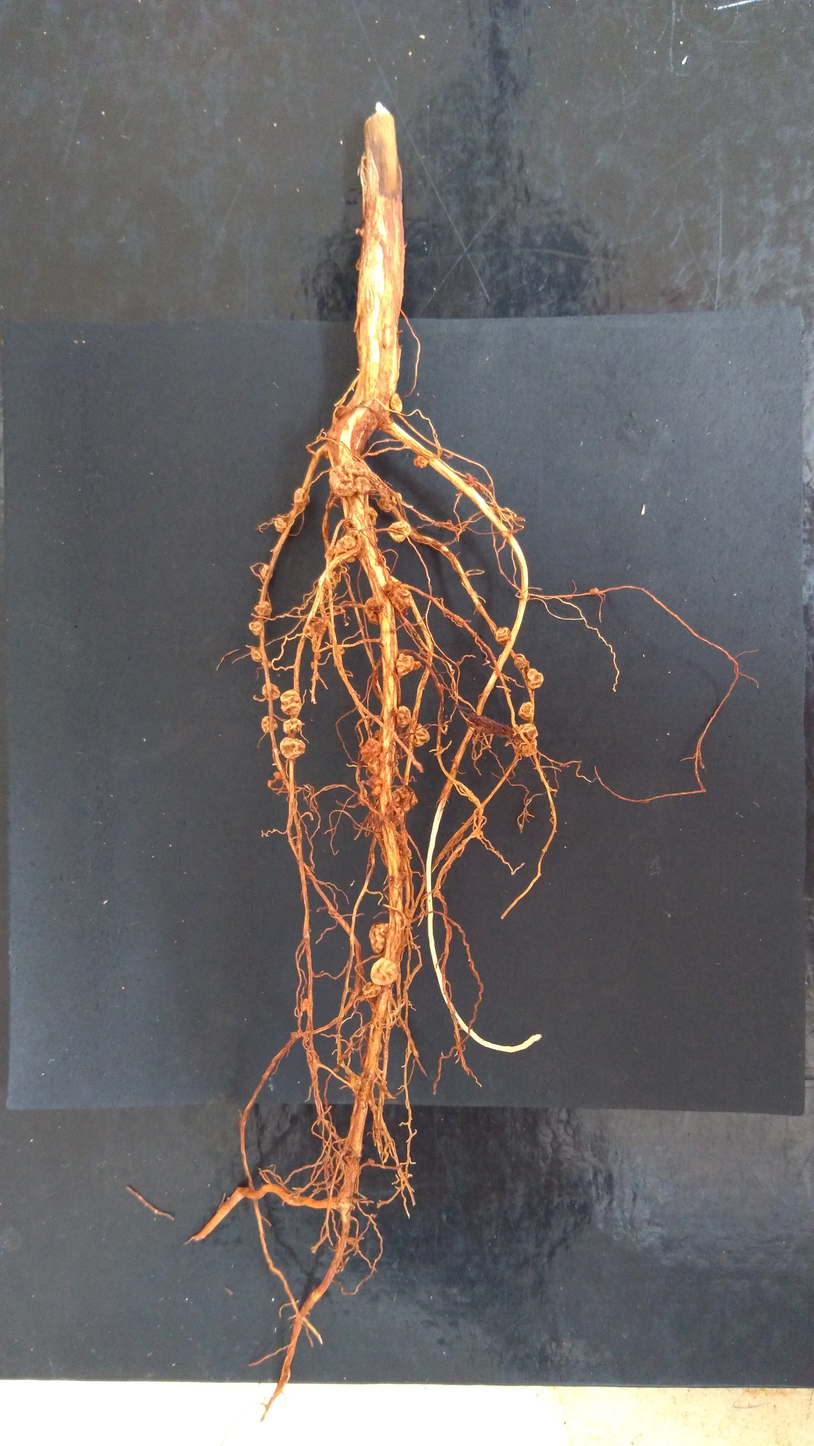nodule: (385, 580, 413, 617), (329, 465, 358, 497), (370, 957, 400, 985), (391, 786, 418, 813), (369, 922, 389, 953), (335, 535, 356, 563), (360, 738, 381, 765), (280, 737, 305, 759), (280, 690, 301, 715), (388, 521, 411, 542), (396, 653, 414, 679), (342, 461, 369, 477), (364, 597, 379, 625), (413, 723, 429, 747), (465, 472, 485, 491), (527, 668, 543, 689), (494, 627, 512, 645), (519, 723, 538, 740), (262, 683, 280, 700), (362, 982, 381, 998), (396, 706, 410, 727), (355, 476, 371, 494), (521, 739, 537, 757), (518, 702, 534, 720), (294, 488, 309, 507), (389, 807, 404, 826), (283, 718, 302, 733), (261, 716, 277, 733), (309, 619, 324, 637), (378, 498, 397, 512), (324, 571, 338, 590), (368, 755, 380, 776), (399, 847, 411, 868), (254, 602, 271, 616), (390, 394, 402, 413), (373, 592, 384, 612), (401, 907, 412, 927), (397, 830, 408, 849), (260, 564, 272, 581), (249, 621, 262, 636), (348, 1075, 361, 1090), (413, 455, 428, 468), (275, 518, 287, 534), (367, 507, 377, 526), (251, 647, 263, 662), (514, 657, 528, 669), (368, 480, 377, 495), (357, 793, 367, 806), (335, 407, 346, 418), (346, 1236, 358, 1246), (371, 785, 382, 795), (392, 493, 402, 504), (301, 998, 308, 1011), (372, 776, 382, 785), (261, 661, 272, 668), (273, 772, 282, 780), (413, 661, 421, 670), (368, 1158, 375, 1166), (374, 730, 380, 739), (589, 588, 598, 594), (267, 780, 274, 787), (315, 652, 321, 660), (339, 647, 345, 655), (341, 1052, 347, 1059), (333, 1067, 339, 1073), (325, 451, 329, 460), (315, 672, 319, 680), (311, 662, 315, 669), (440, 684, 444, 691), (488, 484, 493, 489), (277, 751, 280, 755)
